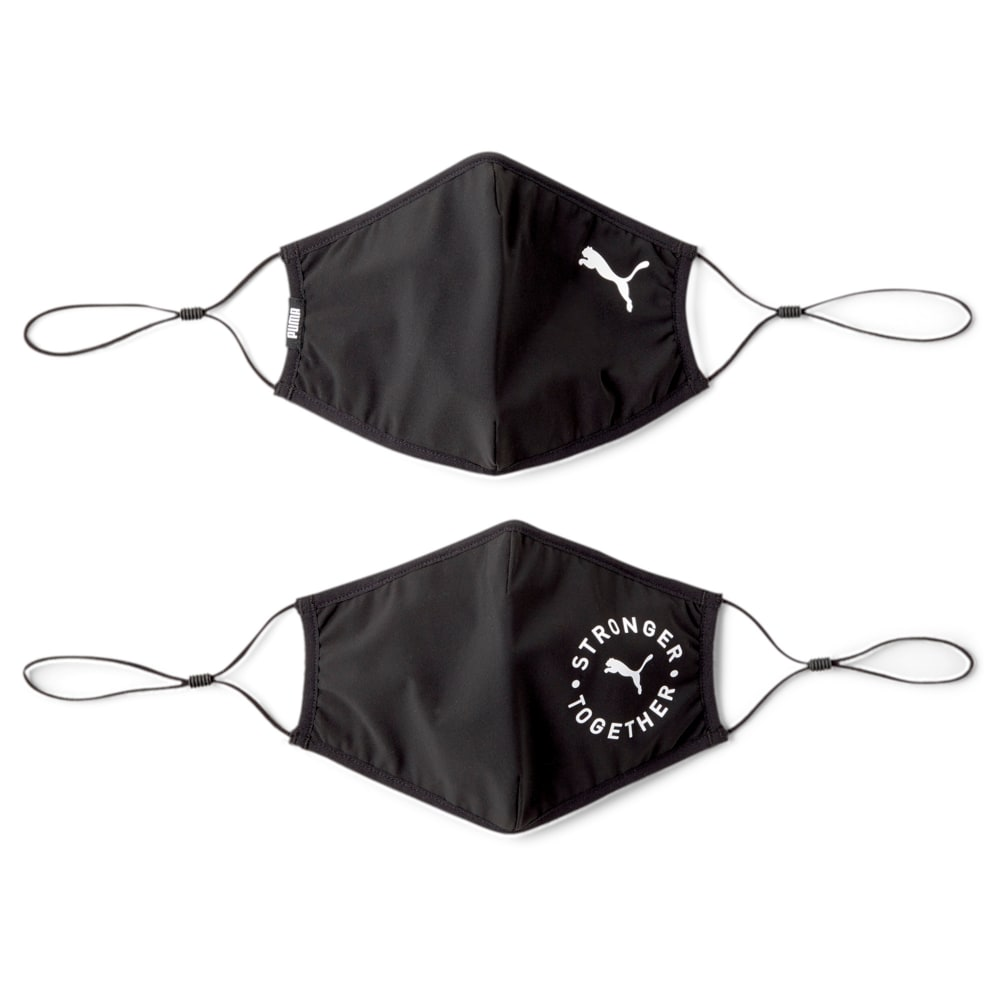maske: (264, 129, 733, 500), (261, 527, 741, 886)
